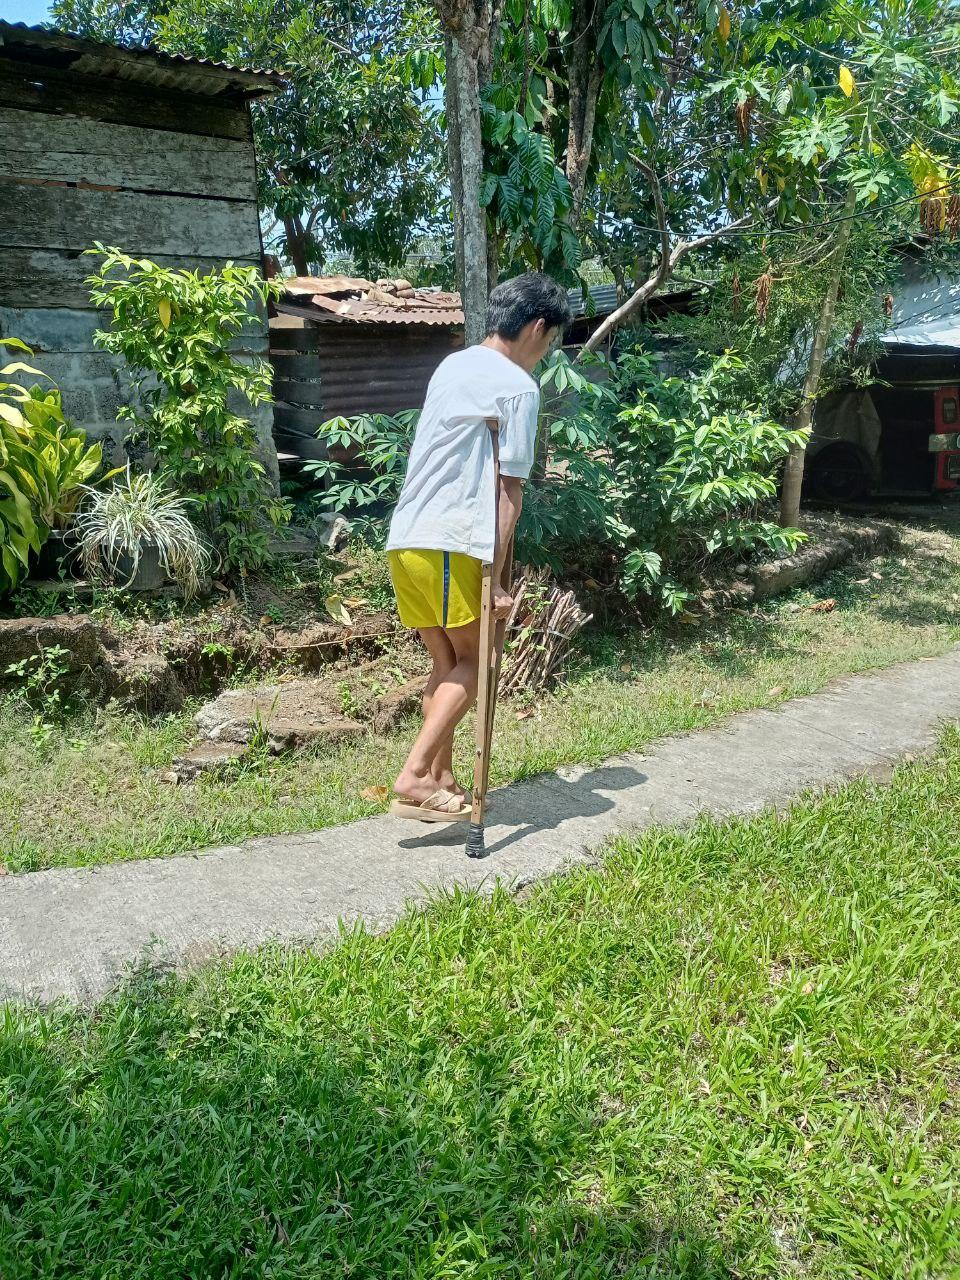crutches: (375, 265, 581, 865)
